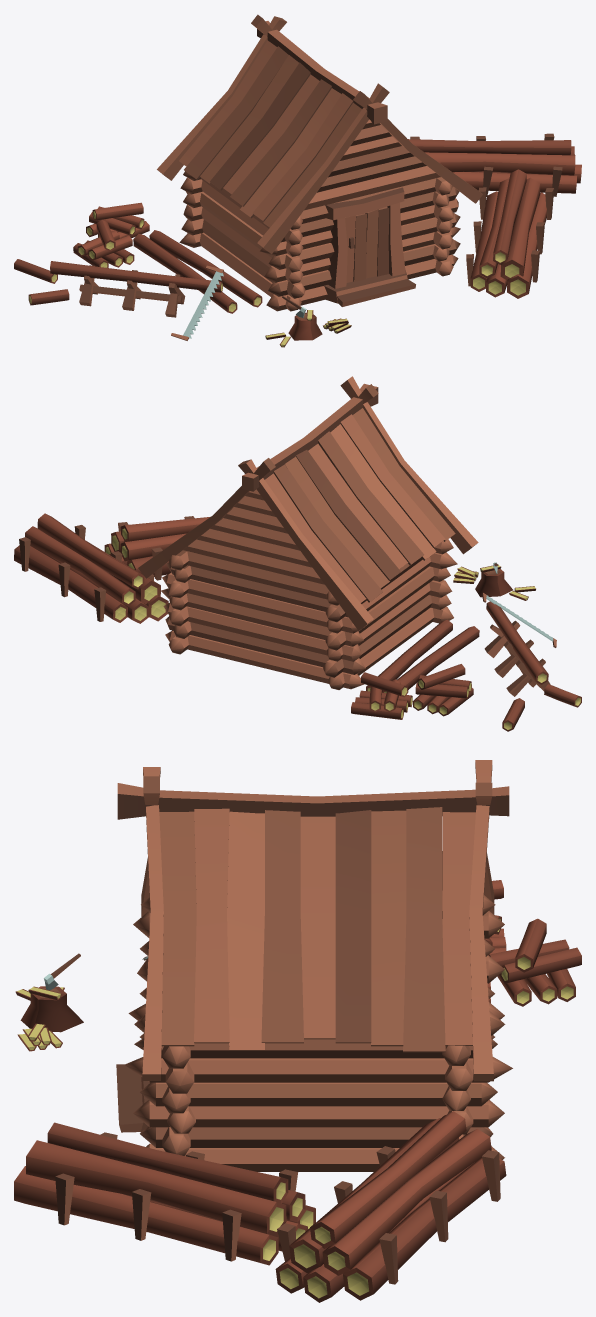
Rendered from Sawmill.fbx.
3 views of the same model, one above another, from view 1: azimuth 30°, elevation 25°; view 2: azimuth 150°, elevation 25°; view 3: azimuth 270°, elevation 25° (orthographic). The views are drawn at different scales.
Parts seen in each view (by area): view 1: Sawmill_1; view 2: Sawmill_1; view 3: Sawmill_1.
Boxes of the visible parts, x1,y1,x2,y2 form: Sawmill_1: [14, 14, 581, 347]; Sawmill_1: [14, 376, 581, 731]; Sawmill_1: [14, 760, 581, 1302].
Size of the model in its own units: 0.2157 by 0.08 by 0.1185.
